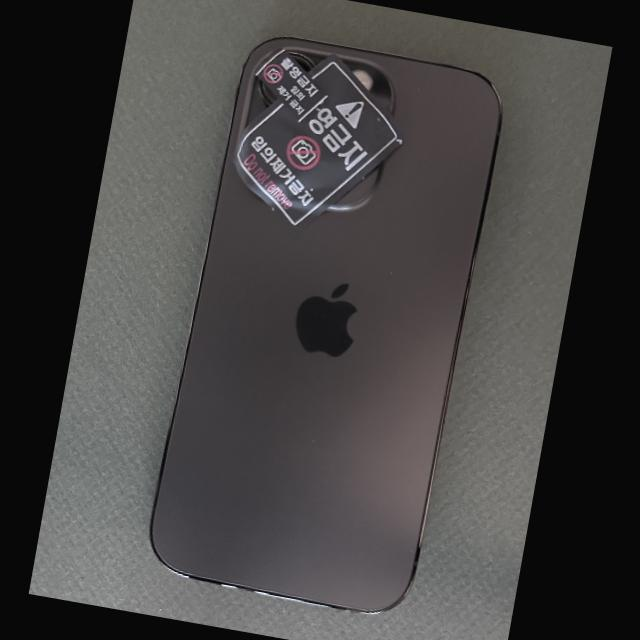lens: (294, 59, 314, 82)
phone: (150, 37, 501, 612)
sticker: (229, 55, 407, 231), (254, 49, 329, 123)
